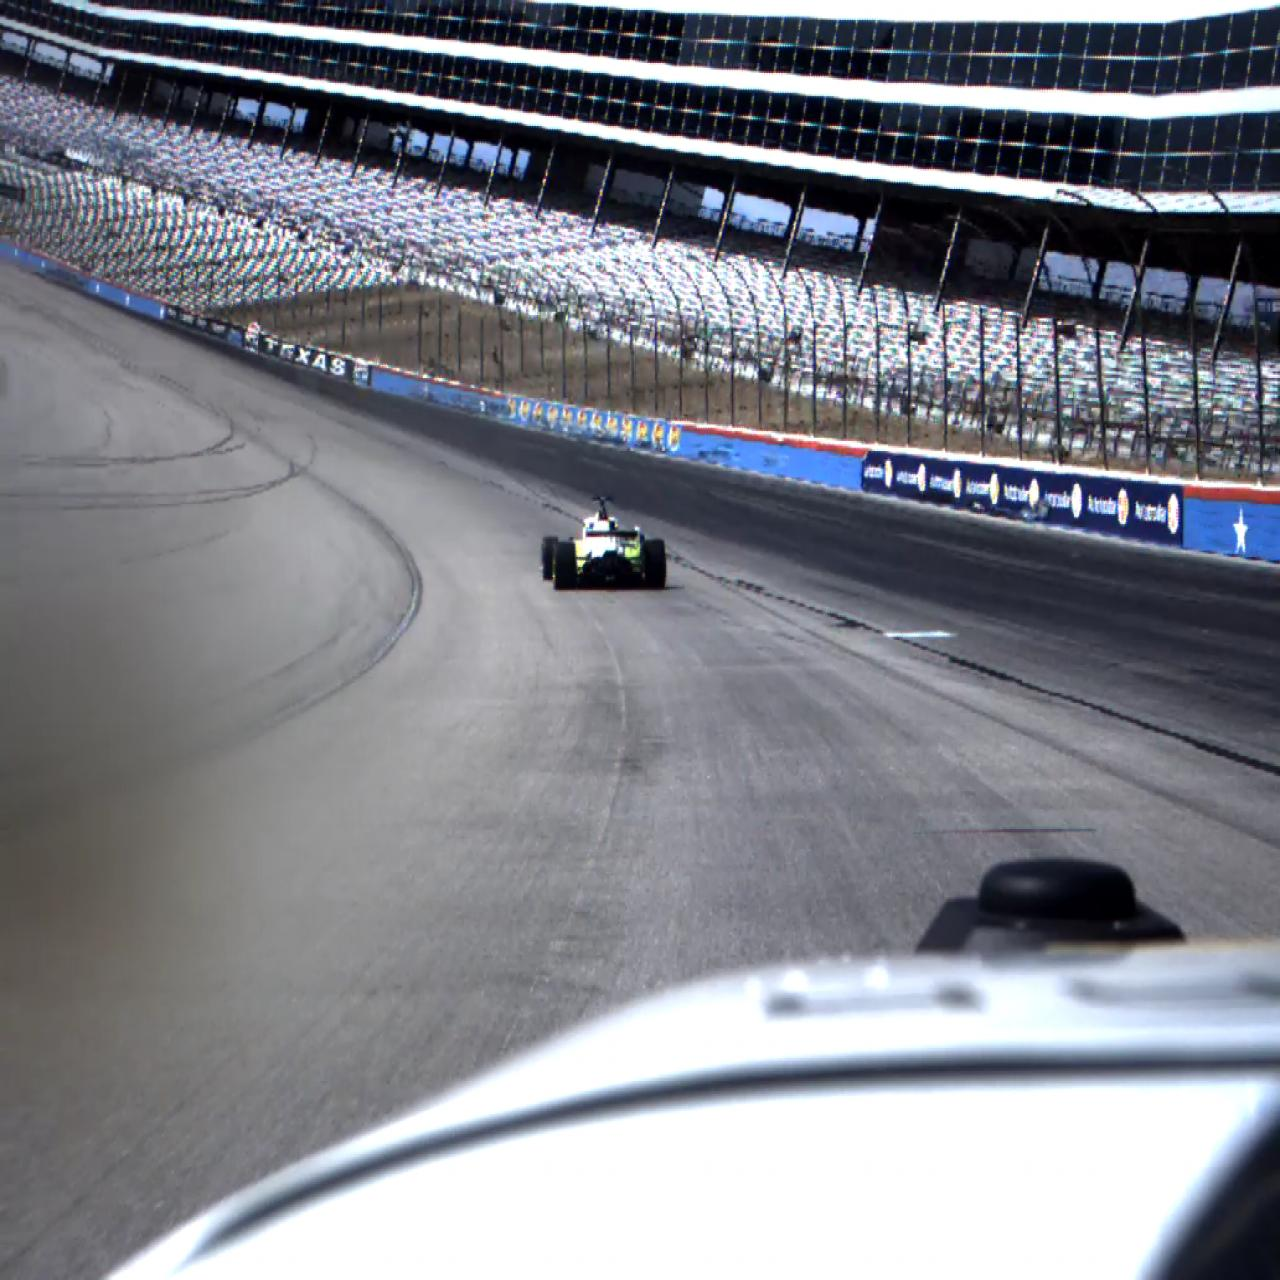AV: (539, 496, 667, 591)
Wheel: (644, 539, 666, 591), (553, 543, 577, 591), (542, 536, 559, 580)
